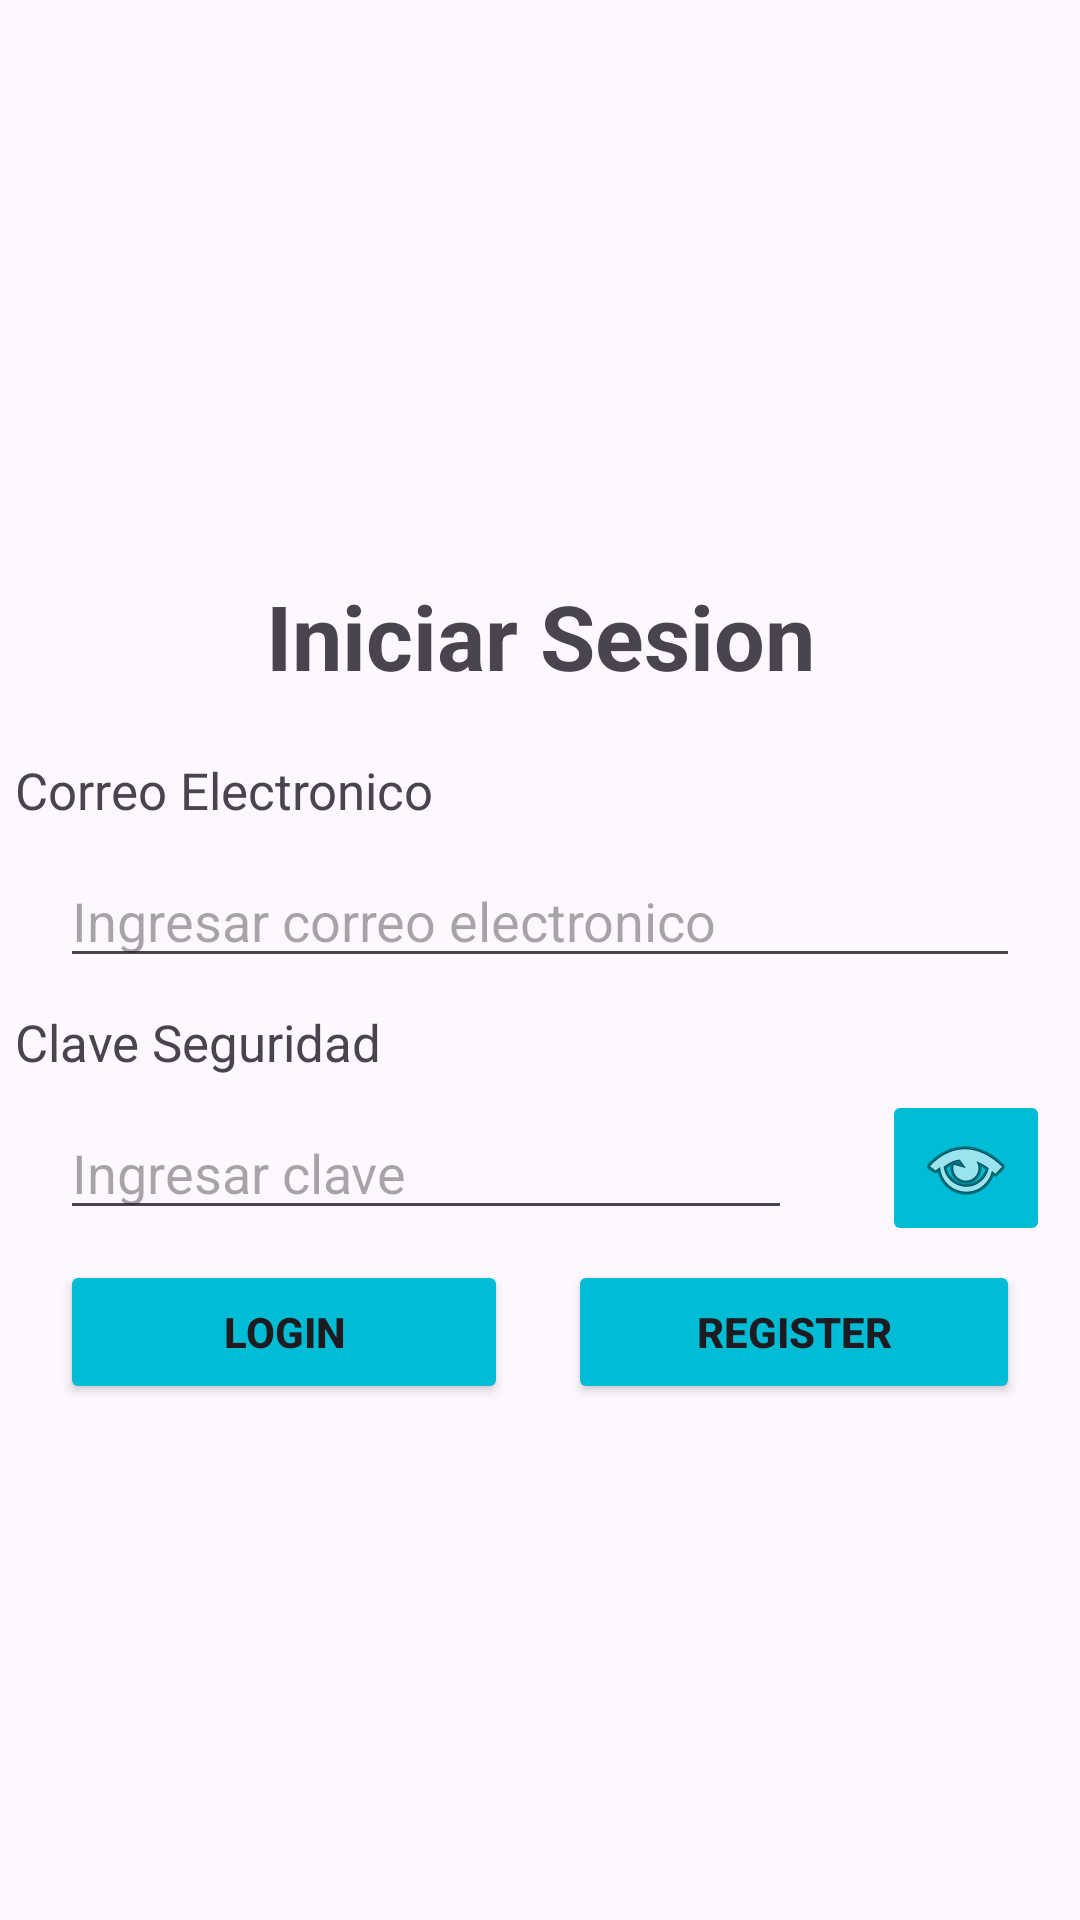

Icons on this 1080 × 1920 Android screen, each with its box as (x1=x1, y1=y1, x2=x2, y2=y2):
view: (x1=894, y1=1108, x2=1038, y2=1228)
